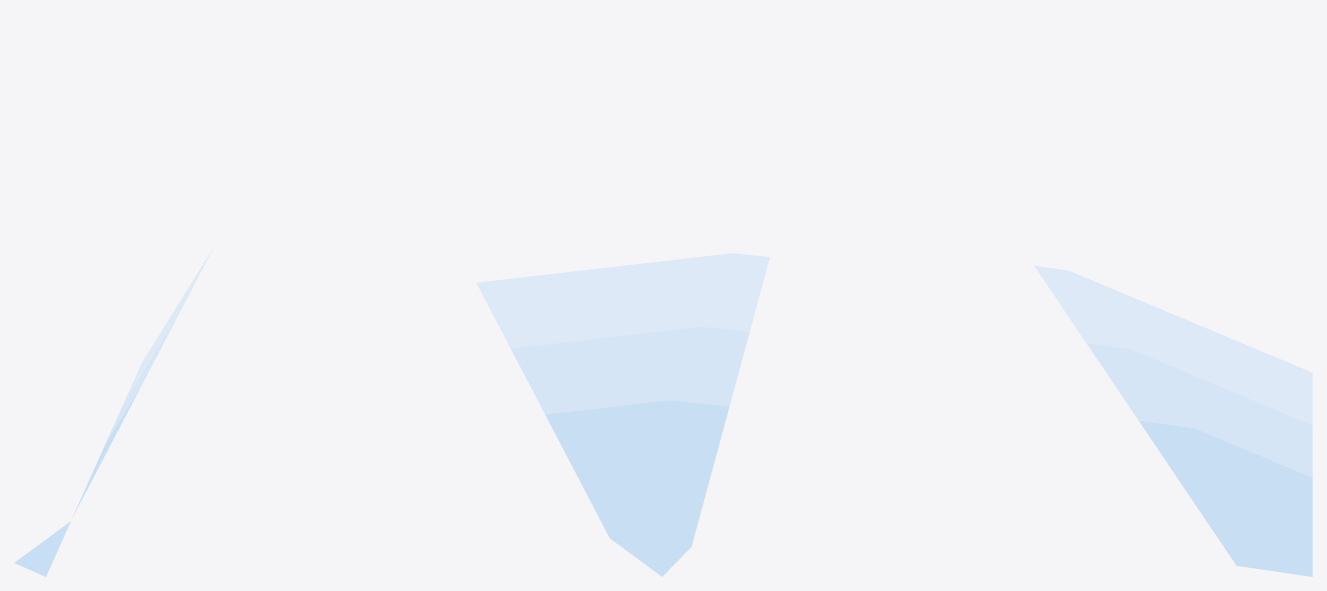
3 renders of one model, left to right at view 1: azimuth 30°, elevation 25°; view 2: azimuth 150°, elevation 25°; view 3: azimuth 270°, elevation 25°, orthographic. The views are drawn at different scales.
Size of the model in its own units: 0.2109 by 0.2949 by 0.2129.
1 material, 1 textured.
